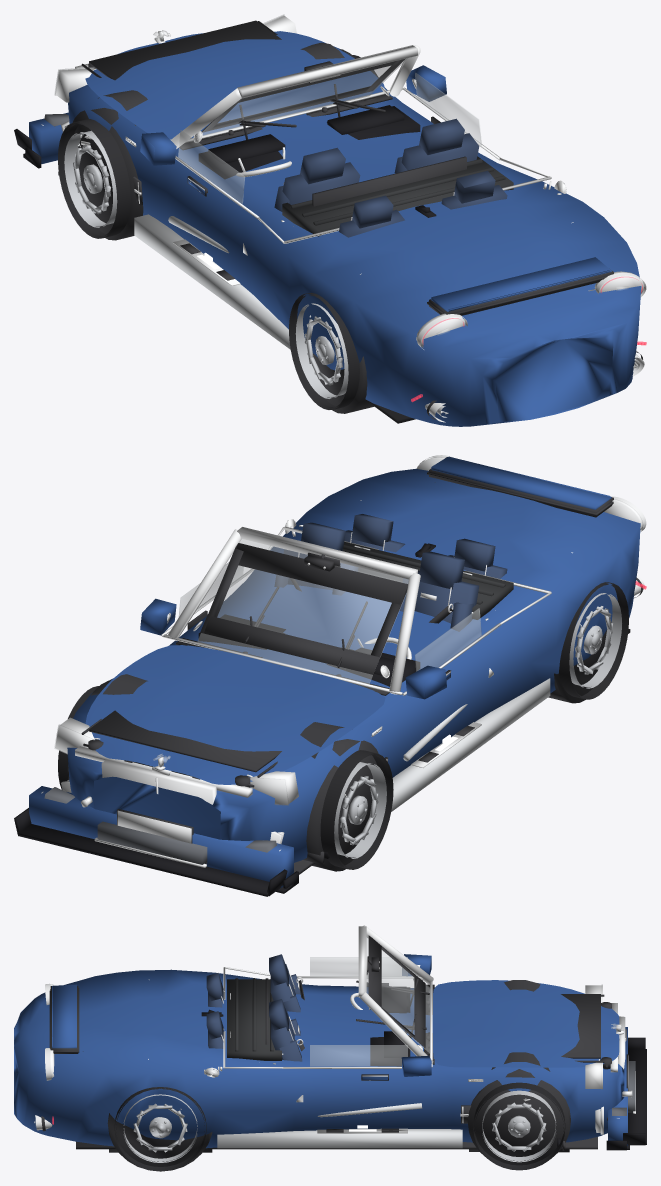
The model's file is vehicle.glb.
3 views of the same model, one above another, from view 1: azimuth 30°, elevation 25°; view 2: azimuth 150°, elevation 25°; view 3: azimuth 270°, elevation 25° (orthographic). The views are drawn at different scales.
Visible parts, largest first — view 1: GEO_BENTLEY_Monocoque_Body_Shell, GEO_BENTLEY_Bonnet_Sculpture, GEO_BENTLEY_GrandTourer_Leather_Seats, GEO_BENTLEY_Windshield_Acoustic_Glass, GEO_BENTLEY_Pirelli_PZero_Tires, GEO_BENTLEY_Reinforced_Aluminum_Side_Sills, GEO_BENTLEY_Folded_Tweed_SoftTop_Tonneau, GEO_BENTLEY_FlyingWing_Dashboard_Fascia, GEO_BENTLEY_Wheelhouse_Inner_Tubs, GEO_BENTLEY_22in_Speed_Barrels, GEO_BENTLEY_Windshield_Header_Frame, GEO_BENTLEY_Active_Deployable_Spoiler_Blade (+12 smaller); view 2: GEO_BENTLEY_Monocoque_Body_Shell, GEO_BENTLEY_Bonnet_Sculpture, GEO_BENTLEY_Windshield_Acoustic_Glass, GEO_BENTLEY_Windshield_Ceramic_Frit_Mask, GEO_BENTLEY_GrandTourer_Leather_Seats, GEO_BENTLEY_Front_Bumper_Valance, GEO_BENTLEY_Pirelli_PZero_Tires, GEO_BENTLEY_Windshield_Header_Frame, GEO_BENTLEY_Reinforced_Aluminum_Side_Sills, GEO_BENTLEY_Front_Aero_Splitter_Winglets, GEO_BENTLEY_Wheelhouse_Inner_Tubs, GEO_BENTLEY_22in_Speed_Barrels (+16 smaller); view 3: GEO_BENTLEY_Monocoque_Body_Shell, GEO_BENTLEY_Bonnet_Sculpture, GEO_BENTLEY_Wheelhouse_Inner_Tubs, GEO_BENTLEY_Windshield_Acoustic_Glass, GEO_BENTLEY_Reinforced_Aluminum_Side_Sills, GEO_BENTLEY_GrandTourer_Leather_Seats, GEO_BENTLEY_Folded_Tweed_SoftTop_Tonneau, GEO_BENTLEY_22in_Speed_Barrels, GEO_BENTLEY_Pirelli_PZero_Tires, GEO_BENTLEY_Windshield_Header_Frame, GEO_BENTLEY_FlyingWing_Dashboard_Fascia, GEO_BENTLEY_Windshield_Ceramic_Frit_Mask (+13 smaller).
Part boxes in pixels (left/top/right/bottom): GEO_BENTLEY_Monocoque_Body_Shell: left=68, top=46, right=641, bottom=426; GEO_BENTLEY_Bonnet_Sculpture: left=85, top=31, right=384, bottom=139; GEO_BENTLEY_GrandTourer_Leather_Seats: left=274, top=118, right=507, bottom=237; GEO_BENTLEY_Windshield_Acoustic_Glass: left=178, top=58, right=481, bottom=203; GEO_BENTLEY_Pirelli_PZero_Tires: left=58, top=55, right=378, bottom=409; GEO_BENTLEY_Reinforced_Aluminum_Side_Sills: left=134, top=214, right=290, bottom=349; GEO_BENTLEY_Folded_Tweed_SoftTop_Tonneau: left=282, top=156, right=513, bottom=236; GEO_BENTLEY_FlyingWing_Dashboard_Fascia: left=198, top=105, right=420, bottom=179; GEO_BENTLEY_Wheelhouse_Inner_Tubs: left=73, top=49, right=373, bottom=413; GEO_BENTLEY_22in_Speed_Barrels: left=64, top=130, right=348, bottom=398; GEO_BENTLEY_Windshield_Header_Frame: left=171, top=45, right=420, bottom=148; GEO_BENTLEY_Active_Deployable_Spoiler_Blade: left=431, top=257, right=611, bottom=311; GEO_BENTLEY_Monocoque_Body_Shell: left=67, top=468, right=640, bottom=862; GEO_BENTLEY_Bonnet_Sculpture: left=85, top=645, right=385, bottom=784; GEO_BENTLEY_Windshield_Acoustic_Glass: left=178, top=539, right=481, bottom=683; GEO_BENTLEY_Windshield_Ceramic_Frit_Mask: left=200, top=543, right=407, bottom=674; GEO_BENTLEY_GrandTourer_Leather_Seats: left=274, top=514, right=507, bottom=631; GEO_BENTLEY_Front_Bumper_Valance: left=29, top=786, right=293, bottom=888; GEO_BENTLEY_Pirelli_PZero_Tires: left=58, top=582, right=628, bottom=869; GEO_BENTLEY_Windshield_Header_Frame: left=167, top=527, right=420, bottom=694; GEO_BENTLEY_Reinforced_Aluminum_Side_Sills: left=391, top=678, right=550, bottom=811; GEO_BENTLEY_Front_Aero_Splitter_Winglets: left=14, top=808, right=329, bottom=896; GEO_BENTLEY_Wheelhouse_Inner_Tubs: left=67, top=622, right=611, bottom=871; GEO_BENTLEY_22in_Speed_Barrels: left=334, top=593, right=621, bottom=858; GEO_BENTLEY_Monocoque_Body_Shell: left=14, top=969, right=624, bottom=1148; GEO_BENTLEY_Bonnet_Sculpture: left=433, top=980, right=619, bottom=1067; GEO_BENTLEY_Wheelhouse_Inner_Tubs: left=107, top=1069, right=570, bottom=1171; GEO_BENTLEY_Windshield_Acoustic_Glass: left=310, top=934, right=430, bottom=1066; GEO_BENTLEY_Reinforced_Aluminum_Side_Sills: left=217, top=1103, right=462, bottom=1148; GEO_BENTLEY_GrandTourer_Leather_Seats: left=206, top=954, right=302, bottom=1061; GEO_BENTLEY_Folded_Tweed_SoftTop_Tonneau: left=227, top=978, right=281, bottom=1060; GEO_BENTLEY_22in_Speed_Barrels: left=123, top=1090, right=556, bottom=1162; GEO_BENTLEY_Pirelli_PZero_Tires: left=114, top=1082, right=565, bottom=1171; GEO_BENTLEY_Windshield_Header_Frame: left=358, top=925, right=433, bottom=1063; GEO_BENTLEY_FlyingWing_Dashboard_Fascia: left=370, top=986, right=410, bottom=1066; GEO_BENTLEY_Windshield_Ceramic_Frit_Mask: left=368, top=935, right=425, bottom=1047.
Size of what is drawn, in the model's own units: 2.07 by 1.44 by 5.03.
